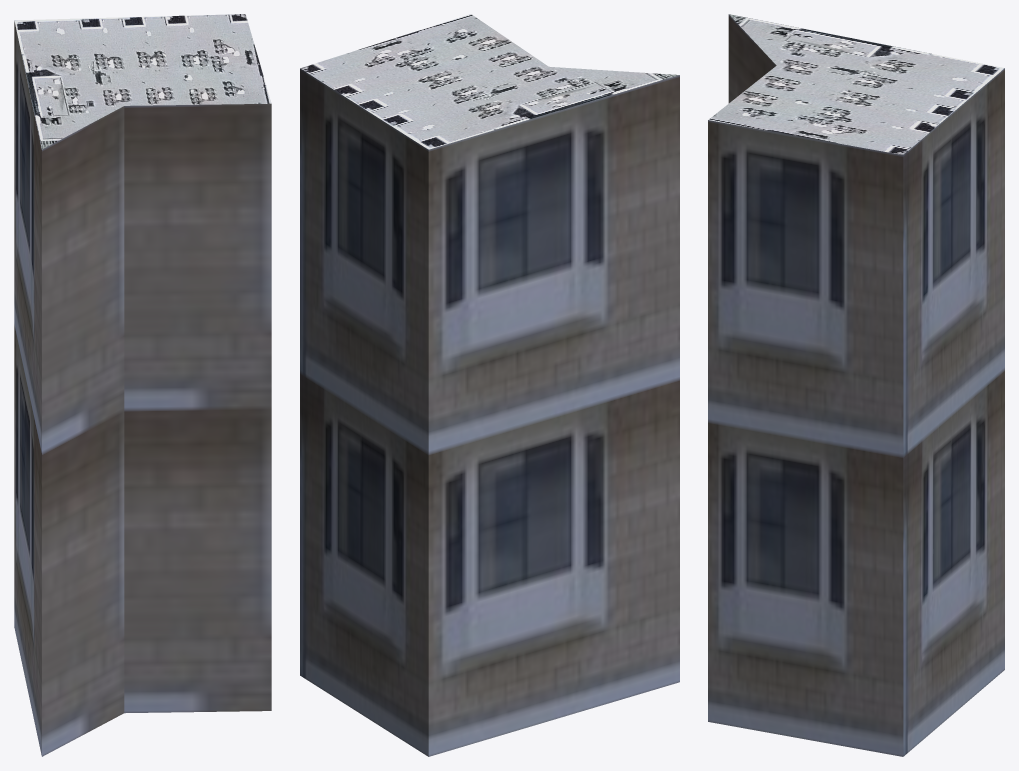
File: ResTex__5176.fbx
3 renders of one model, left to right at view 1: azimuth 30°, elevation 25°; view 2: azimuth 150°, elevation 25°; view 3: azimuth 270°, elevation 25°, orthographic.
Parts seen in each view (by area): view 1: CityEngineMaterial_3_m, CityEngineMaterial_m; view 2: CityEngineMaterial_3_m, CityEngineMaterial_m; view 3: CityEngineMaterial_3_m, CityEngineMaterial_m.
Part boxes in pixels (x1,y1,x2,y2): CityEngineMaterial_3_m: [14, 21, 271, 756]; CityEngineMaterial_m: [14, 14, 271, 149]; CityEngineMaterial_3_m: [300, 68, 679, 756]; CityEngineMaterial_m: [300, 14, 679, 149]; CityEngineMaterial_3_m: [708, 14, 1004, 756]; CityEngineMaterial_m: [708, 14, 1004, 154].
Size of the model in its own units: 3.02 by 6 by 2.68.
Materials: 2 (2 with a texture image).
